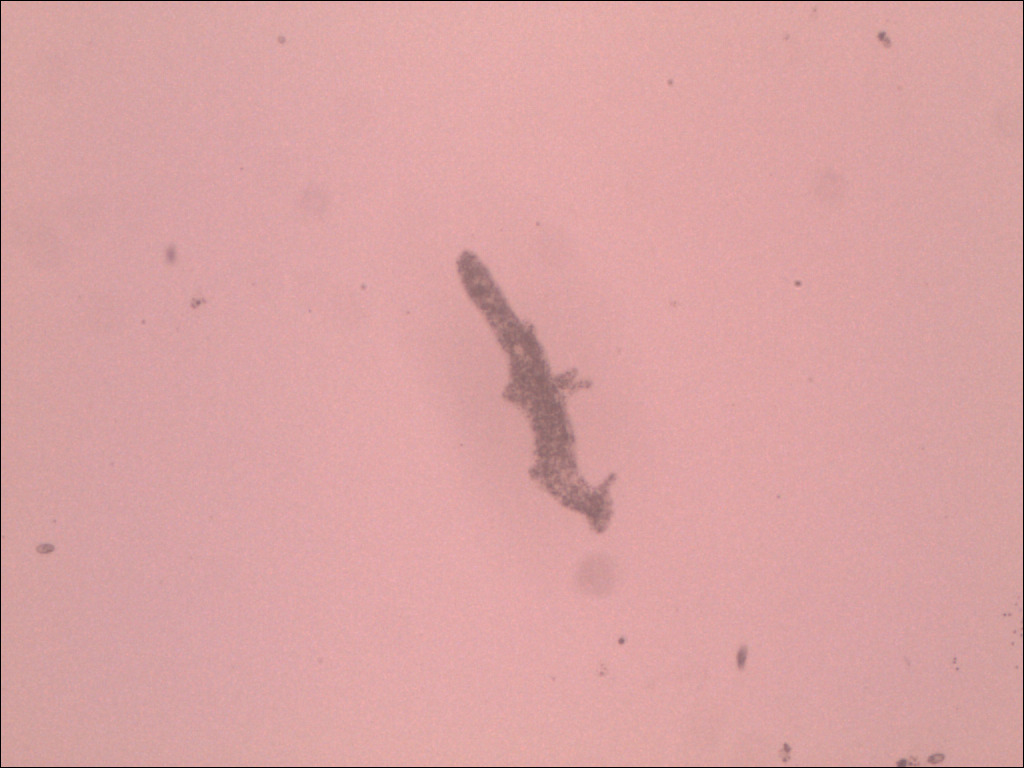amoeba: (446, 242, 631, 539)
